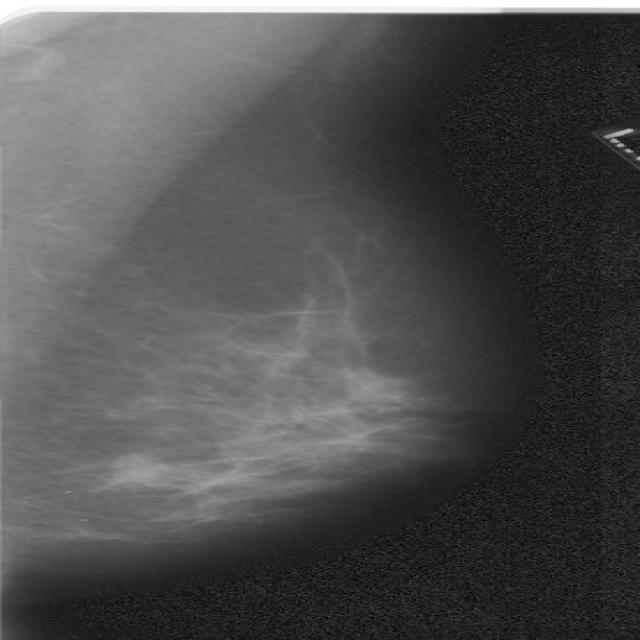tumour: (108, 452, 168, 487)
